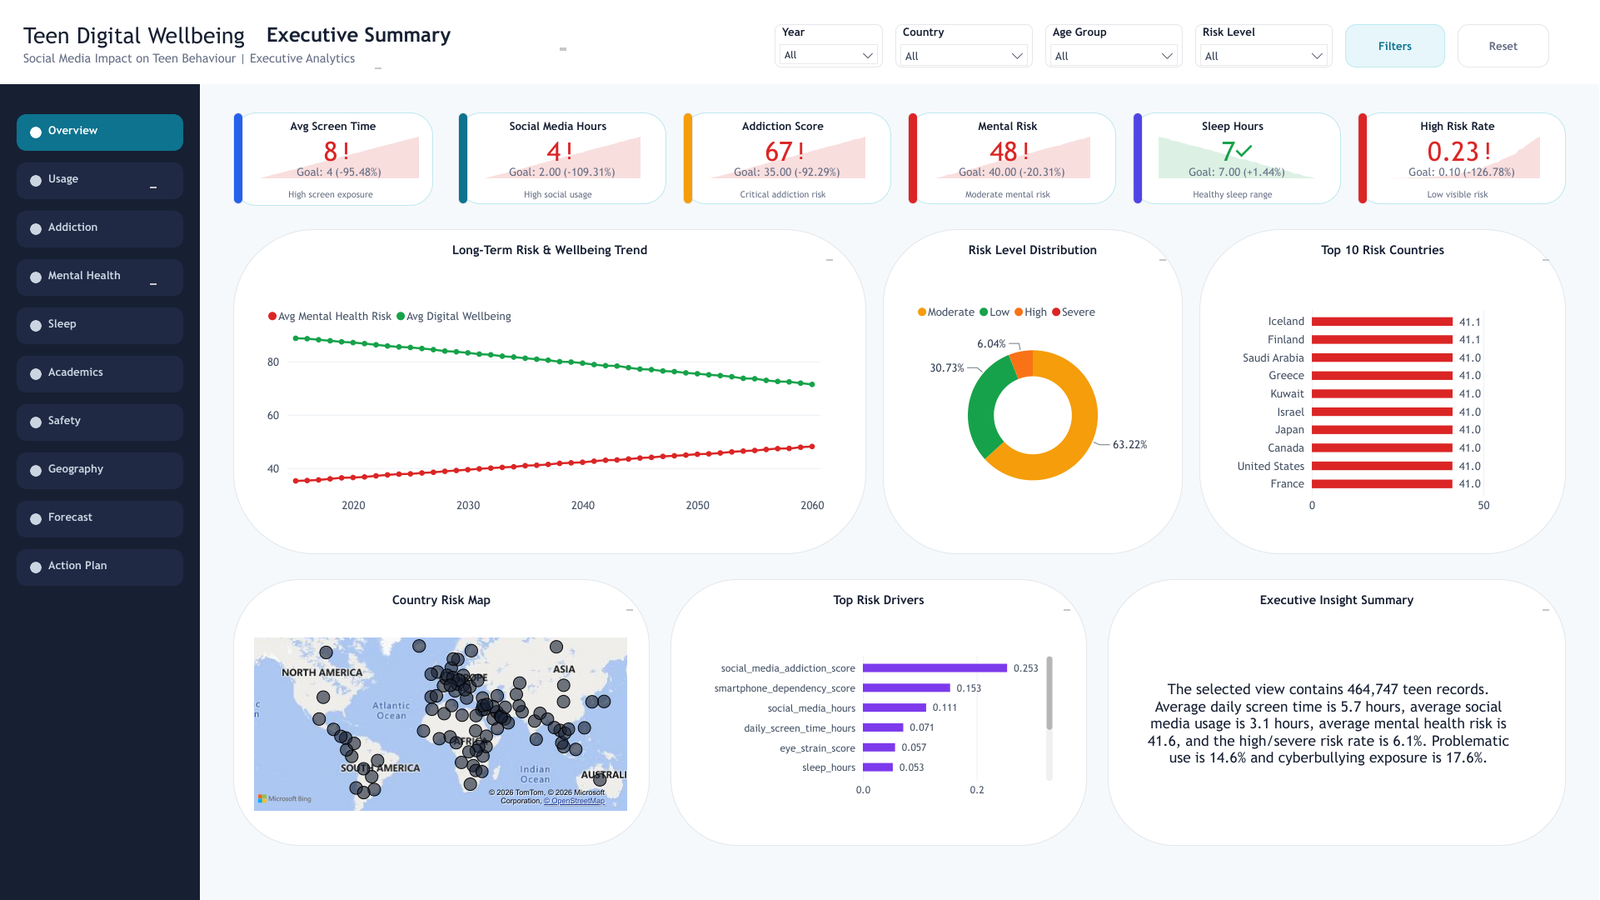

The dashboard page shown, as its layout file describes it:
{"tool":"powerbi","page":{"name":"Executive Summary","canvas":[1920,1080],"ordinal":0},"visuals":[{"type":"shape","title":"SHAPE Header","box":[0,0,1920,96],"z":0},{"type":"shape","title":"SHAPE Left Navigation","box":[0,96,240,984],"z":1000},{"type":"textbox","title":"Teen Digital Wellbeing","box":[28,22,360,34],"z":2000},{"type":"textbox","title":"Social Media Impact on Teen Behaviour | Executive Analytics","box":[28,56,430,22],"z":3000},{"type":"textbox","title":"Executive Summary","box":[320,22,360,34],"z":4000},{"type":"shape","box":[20,132,200,44],"z":5000},{"type":"textbox","title":"Overview","box":[58,143,130,20],"z":6000},{"type":"shape","box":[20,190,200,44],"z":7000},{"type":"shape","box":[20,248,200,44],"z":8000},{"type":"shape","box":[20,306,200,44],"z":9000},{"type":"shape","box":[20,364,200,44],"z":10000},{"type":"shape","box":[20,422,200,44],"z":11000},{"type":"shape","box":[20,480,200,44],"z":12000},{"type":"shape","box":[20,538,200,44],"z":13000},{"type":"shape","box":[20,596,200,44],"z":14000},{"type":"shape","box":[20,654,200,44],"z":15000},{"type":"textbox","title":"Usage","box":[58,201,130,20],"z":18000},{"type":"textbox","title":"Addiction","box":[58,259,130,20],"z":19000},{"type":"textbox","title":"Mental Health","box":[58,317,130,20],"z":20000},{"type":"textbox","title":"Sleep","box":[58,375,130,20],"z":21000},{"type":"textbox","title":"Academics","box":[58,433,130,20],"z":22000},{"type":"textbox","title":"Safety","box":[58,491,130,20],"z":23000},{"type":"textbox","title":"Geography","box":[58,549,130,20],"z":24000},{"type":"textbox","title":"Forecast","box":[58,607,130,20],"z":25000},{"type":"textbox","title":"Action Plan","box":[58,665,130,20],"z":26000},{"type":"shape","box":[36,147,14,14],"z":29000},{"type":"shape","box":[36,205,14,14],"z":30000},{"type":"shape","box":[36,263,14,14],"z":31000},{"type":"shape","box":[36,321,14,14],"z":32000},{"type":"shape","box":[36,379,14,14],"z":33000},{"type":"shape","box":[36,437,14,14],"z":34000},{"type":"shape","box":[36,495,14,14],"z":35000},{"type":"shape","box":[36,553,14,14],"z":36000},{"type":"shape","box":[36,611,14,14],"z":37000},{"type":"shape","box":[36,669,14,14],"z":38000},{"type":"actionButton","box":[20,132,200,44],"z":41000},{"type":"actionButton","box":[20,190,200,44],"z":42000},{"type":"actionButton","box":[20,248,200,44],"z":43000},{"type":"actionButton","box":[20,306,200,44],"z":44000},{"type":"actionButton","box":[20,364,200,44],"z":45000},{"type":"actionButton","box":[20,422,200,44],"z":46000},{"type":"actionButton","box":[20,480,200,44],"z":47000},{"type":"actionButton","box":[20,538,200,44],"z":48000},{"type":"actionButton","box":[20,596,200,44],"z":49000},{"type":"actionButton","box":[20,654,200,44],"z":50000},{"type":"slicer","title":"SLICER Year","fields":{"Values":["DimDate.Year"]},"box":[930,24,130,52],"z":53000},{"type":"slicer","title":"SLICER Country","fields":{"Values":["DimCountry.country"]},"box":[1075,24,165,52],"z":54000},{"type":"slicer","title":"SLICER Age Group","fields":{"Values":["DimDemographic.age_group"]},"box":[1255,24,165,52],"z":55000},{"type":"slicer","title":"SLICER Risk Level","fields":{"Values":["DimRisk.risk_level"]},"box":[1435,24,165,52],"z":56000},{"type":"shape","title":"BTN Filters","box":[1615,24,120,52],"z":57000},{"type":"shape","title":"BTN Reset","box":[1750,24,110,52],"z":58000},{"type":"shape","title":"SHAPE KPI Avg Screen Time","box":[280,130,240,112],"z":59000},{"type":"shape","title":"SHAPE KPI Social Hours","box":[550,130,250,110],"z":60000},{"type":"shape","title":"SHAPE KPI Addiction","box":[820,130,250,110],"z":61000},{"type":"shape","title":"SHAPE KPI Sleep","box":[1360,130,250,110],"z":62000},{"type":"shape","title":"SHAPE KPI Mental Risk","box":[1090,130,250,110],"z":63000},{"type":"shape","title":"SHAPE KPI High Risk","box":[1630,130,250,110],"z":64000},{"type":"shape","box":[280,130,12,110],"z":65000},{"type":"shape","box":[550,130,12,110],"z":66000},{"type":"shape","box":[820,130,12,110],"z":67000},{"type":"shape","box":[1090,130,12,110],"z":68000},{"type":"shape","box":[1360,130,12,110],"z":69000},{"type":"shape","box":[1630,130,12,110],"z":70000},{"type":"kpi","fields":{"Indicator":["_Measures.Avg Screen Time Hours"],"TrendLine":["DimDate.Year"],"Goal":["_Measures.Screen Time Target Hours"]},"box":[295,145,224,80],"z":71000},{"type":"kpi","fields":{"TrendLine":["DimDate.Year"],"Indicator":["_Measures.Avg Social Media Hours"],"Goal":["_Measures.Social Media Target Hours"]},"box":[565,145,220,80],"z":72000},{"type":"kpi","fields":{"TrendLine":["DimDate.Year"],"Indicator":["_Measures.Avg Addiction Score"],"Goal":["_Measures.Addiction Score Target"]},"box":[835,145,220,80],"z":73000},{"type":"kpi","fields":{"TrendLine":["DimDate.Year"],"Indicator":["_Measures.Avg Sleep Hours"],"Goal":["_Measures.Sleep Hours Target"]},"box":[1375,145,220,80],"z":74000},{"type":"kpi","fields":{"TrendLine":["DimDate.Year"],"Indicator":["_Measures.High Severe Risk Rate"],"Goal":["_Measures.High Severe Risk Target"]},"box":[1645,145,220,80],"z":75000},{"type":"kpi","fields":{"TrendLine":["DimDate.Year"],"Indicator":["_Measures.Avg Mental Health Risk"],"Goal":["_Measures.Mental Health Risk Target"]},"box":[1105,145,220,80],"z":76000},{"type":"textbox","title":"Avg Screen Time","box":[305,138,190,20],"z":77000},{"type":"textbox","title":"Social Media Hours","box":[575,138,190,20],"z":78000},{"type":"textbox","title":"Addiction Score","box":[845,138,190,20],"z":79000},{"type":"textbox","title":"Sleep Hours","box":[1385,138,190,20],"z":80000},{"type":"textbox","title":"High Risk Rate","box":[1655,138,190,20],"z":81000},{"type":"textbox","title":"Mental Risk","box":[1115,138,190,20],"z":82000},{"type":"cardVisual","fields":{"Data":["_Measures.Screen Time KPI Status"]},"box":[302,218,190,18],"z":83000},{"type":"cardVisual","fields":{"Data":["_Measures.Social Media KPI Status"]},"box":[575,218,190,18],"z":84000},{"type":"cardVisual","fields":{"Data":["_Measures.Addiction KPI Status"]},"box":[845,218,190,18],"z":85000},{"type":"cardVisual","fields":{"Data":["_Measures.Sleep KPI Status"]},"box":[1385,218,190,18],"z":86000},{"type":"cardVisual","fields":{"Data":["_Measures.High Risk KPI Status"]},"box":[1655,218,190,18],"z":87000},{"type":"shape","title":"CHART Trend Risk Wellbeing","box":[280,270,760,390],"z":88000},{"type":"cardVisual","fields":{"Data":["_Measures.Mental Risk KPI Status"]},"box":[1115,218,190,18],"z":89000},{"type":"shape","title":"CHART Risk Distribution","box":[1060,270,360,390],"z":90000},{"type":"shape","title":"CHART Top 10 Countries","box":[1440,270,440,390],"z":91000},{"type":"shape","title":"CHART Country Risk Map","box":[280,690,500,320],"z":92000},{"type":"shape","title":"CHART Risk Drivers","box":[805,690,500,320],"z":93000},{"type":"shape","title":"CARD Executive Summary","box":[1330,690,550,320],"z":94000},{"type":"textbox","title":"Long-Term Risk & Wellbeing Trend","box":[320,286,680,22],"z":95000},{"type":"textbox","title":"Executive Insight Summary","box":[1350,706,510,22],"z":96000},{"type":"textbox","title":"Top Risk Drivers","box":[825,706,460,22],"z":97000},{"type":"textbox","title":"Country Risk Map","box":[300,706,460,22],"z":98000},{"type":"textbox","title":"Top 10 Risk Countries","box":[1460,286,400,22],"z":99000},{"type":"textbox","title":"Risk Level Distribution","box":[1080,286,320,22],"z":100000},{"type":"lineChart","fields":{"Category":["DimDate.Year"],"Y":["_Measures.Avg Mental Health Risk","_Measures.Avg Digital Wellbeing"]},"box":[305,345,700,285],"z":101000},{"type":"donutChart","fields":{"Category":["DimRisk.risk_level"],"Y":["_Measures.Teen Records"]},"box":[1085,340,310,280],"z":102000},{"type":"clusteredBarChart","fields":{"Category":["DimCountry.country"],"Y":["_Measures.Avg Overall Risk"]},"box":[1465,345,380,285],"z":103000},{"type":"clusteredBarChart","fields":{"Category":["FactFeatureImportance.feature"],"Y":["_Measures.Feature Importance"]},"box":[830,760,450,210],"z":104000},{"type":"map","fields":{"Category":["DimCountry.country"],"Size":["_Measures.Avg Overall Risk"]},"box":[305,760,448,208],"z":105000},{"type":"card","fields":{"Values":["_Measures.Executive Summary Text"]},"box":[1360,760,470,210],"z":106000}]}

Visuals, with their boxes in screenshot pixels (x1, y1, x2, y2), scaled from the page's 1920x1080 canvas onto the 1600x900 screenshot:
"SHAPE Header" shape: [0, 0, 1599, 80]
"SHAPE Left Navigation" shape: [0, 80, 200, 899]
"Teen Digital Wellbeing" textbox: [23, 18, 323, 47]
"Social Media Impact on Teen Behaviour | Executive Analytics" textbox: [23, 47, 382, 65]
"Executive Summary" textbox: [267, 18, 567, 47]
shape: [17, 110, 183, 147]
"Overview" textbox: [48, 119, 157, 136]
shape: [17, 158, 183, 195]
shape: [17, 207, 183, 243]
shape: [17, 255, 183, 292]
shape: [17, 303, 183, 340]
shape: [17, 352, 183, 388]
shape: [17, 400, 183, 437]
shape: [17, 448, 183, 485]
shape: [17, 497, 183, 533]
shape: [17, 545, 183, 582]
"Usage" textbox: [48, 168, 157, 184]
"Addiction" textbox: [48, 216, 157, 232]
"Mental Health" textbox: [48, 264, 157, 281]
"Sleep" textbox: [48, 312, 157, 329]
"Academics" textbox: [48, 361, 157, 378]
"Safety" textbox: [48, 409, 157, 426]
"Geography" textbox: [48, 458, 157, 474]
"Forecast" textbox: [48, 506, 157, 522]
"Action Plan" textbox: [48, 554, 157, 571]
shape: [30, 122, 42, 134]
shape: [30, 171, 42, 182]
shape: [30, 219, 42, 231]
shape: [30, 268, 42, 279]
shape: [30, 316, 42, 328]
shape: [30, 364, 42, 376]
shape: [30, 412, 42, 424]
shape: [30, 461, 42, 472]
shape: [30, 509, 42, 521]
shape: [30, 558, 42, 569]
actionButton: [17, 110, 183, 147]
actionButton: [17, 158, 183, 195]
actionButton: [17, 207, 183, 243]
actionButton: [17, 255, 183, 292]
actionButton: [17, 303, 183, 340]
actionButton: [17, 352, 183, 388]
actionButton: [17, 400, 183, 437]
actionButton: [17, 448, 183, 485]
actionButton: [17, 497, 183, 533]
actionButton: [17, 545, 183, 582]
"SLICER Year" slicer: [775, 20, 883, 63]
"SLICER Country" slicer: [896, 20, 1033, 63]
"SLICER Age Group" slicer: [1046, 20, 1183, 63]
"SLICER Risk Level" slicer: [1196, 20, 1333, 63]
"BTN Filters" shape: [1346, 20, 1446, 63]
"BTN Reset" shape: [1458, 20, 1550, 63]
"SHAPE KPI Avg Screen Time" shape: [233, 108, 433, 202]
"SHAPE KPI Social Hours" shape: [458, 108, 667, 200]
"SHAPE KPI Addiction" shape: [683, 108, 892, 200]
"SHAPE KPI Sleep" shape: [1133, 108, 1342, 200]
"SHAPE KPI Mental Risk" shape: [908, 108, 1117, 200]
"SHAPE KPI High Risk" shape: [1358, 108, 1567, 200]
shape: [233, 108, 243, 200]
shape: [458, 108, 468, 200]
shape: [683, 108, 693, 200]
shape: [908, 108, 918, 200]
shape: [1133, 108, 1143, 200]
shape: [1358, 108, 1368, 200]
kpi - _Measures.Avg Screen Time Hours x DimDate.Year: [246, 121, 432, 188]
kpi - DimDate.Year x _Measures.Avg Social Media Hours: [471, 121, 654, 188]
kpi - DimDate.Year x _Measures.Avg Addiction Score: [696, 121, 879, 188]
kpi - DimDate.Year x _Measures.Avg Sleep Hours: [1146, 121, 1329, 188]
kpi - DimDate.Year x _Measures.High Severe Risk Rate: [1371, 121, 1554, 188]
kpi - DimDate.Year x _Measures.Avg Mental Health Risk: [921, 121, 1104, 188]
"Avg Screen Time" textbox: [254, 115, 412, 132]
"Social Media Hours" textbox: [479, 115, 638, 132]
"Addiction Score" textbox: [704, 115, 862, 132]
"Sleep Hours" textbox: [1154, 115, 1312, 132]
"High Risk Rate" textbox: [1379, 115, 1538, 132]
"Mental Risk" textbox: [929, 115, 1088, 132]
cardVisual - _Measures.Screen Time KPI Status: [252, 182, 410, 197]
cardVisual - _Measures.Social Media KPI Status: [479, 182, 638, 197]
cardVisual - _Measures.Addiction KPI Status: [704, 182, 862, 197]
cardVisual - _Measures.Sleep KPI Status: [1154, 182, 1312, 197]
cardVisual - _Measures.High Risk KPI Status: [1379, 182, 1538, 197]
"CHART Trend Risk Wellbeing" shape: [233, 225, 867, 550]
cardVisual - _Measures.Mental Risk KPI Status: [929, 182, 1088, 197]
"CHART Risk Distribution" shape: [883, 225, 1183, 550]
"CHART Top 10 Countries" shape: [1200, 225, 1567, 550]
"CHART Country Risk Map" shape: [233, 575, 650, 842]
"CHART Risk Drivers" shape: [671, 575, 1088, 842]
"CARD Executive Summary" shape: [1108, 575, 1567, 842]
"Long-Term Risk & Wellbeing Trend" textbox: [267, 238, 833, 257]
"Executive Insight Summary" textbox: [1125, 588, 1550, 607]
"Top Risk Drivers" textbox: [688, 588, 1071, 607]
"Country Risk Map" textbox: [250, 588, 633, 607]
"Top 10 Risk Countries" textbox: [1217, 238, 1550, 257]
"Risk Level Distribution" textbox: [900, 238, 1167, 257]
lineChart - DimDate.Year x _Measures.Avg Mental Health Risk: [254, 288, 838, 525]
donutChart - DimRisk.risk_level x _Measures.Teen Records: [904, 283, 1162, 517]
clusteredBarChart - DimCountry.country x _Measures.Avg Overall Risk: [1221, 288, 1538, 525]
clusteredBarChart - FactFeatureImportance.feature x _Measures.Feature Importance: [692, 633, 1067, 808]
map - DimCountry.country x _Measures.Avg Overall Risk: [254, 633, 628, 807]
card - _Measures.Executive Summary Text: [1133, 633, 1525, 808]
